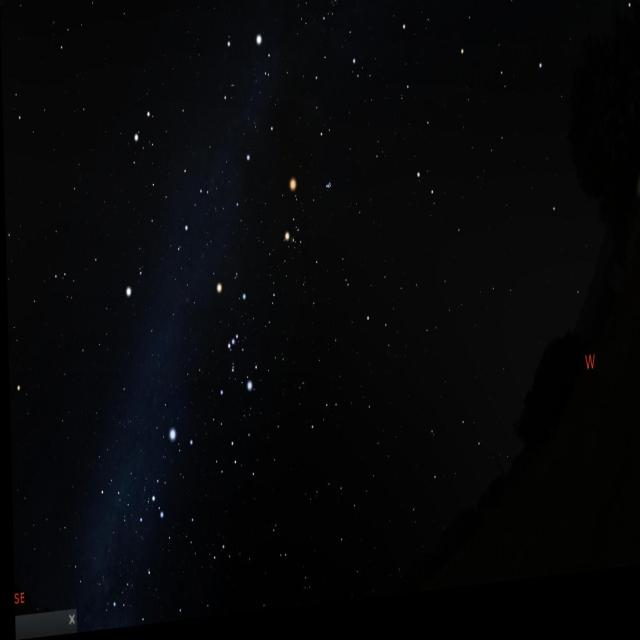canis_major: (144, 412, 201, 532)
canis_minor: (114, 258, 148, 308)
gemini: (124, 90, 226, 259)
orion: (206, 280, 265, 426)
pleiades: (320, 186, 335, 209)
taurus: (278, 170, 356, 304)
